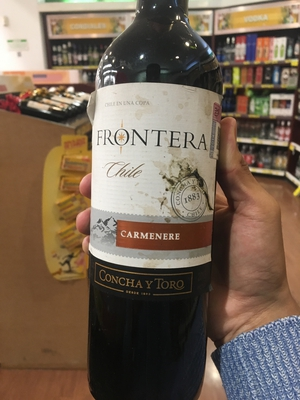frontera carmenere: (71, 10, 223, 371)
